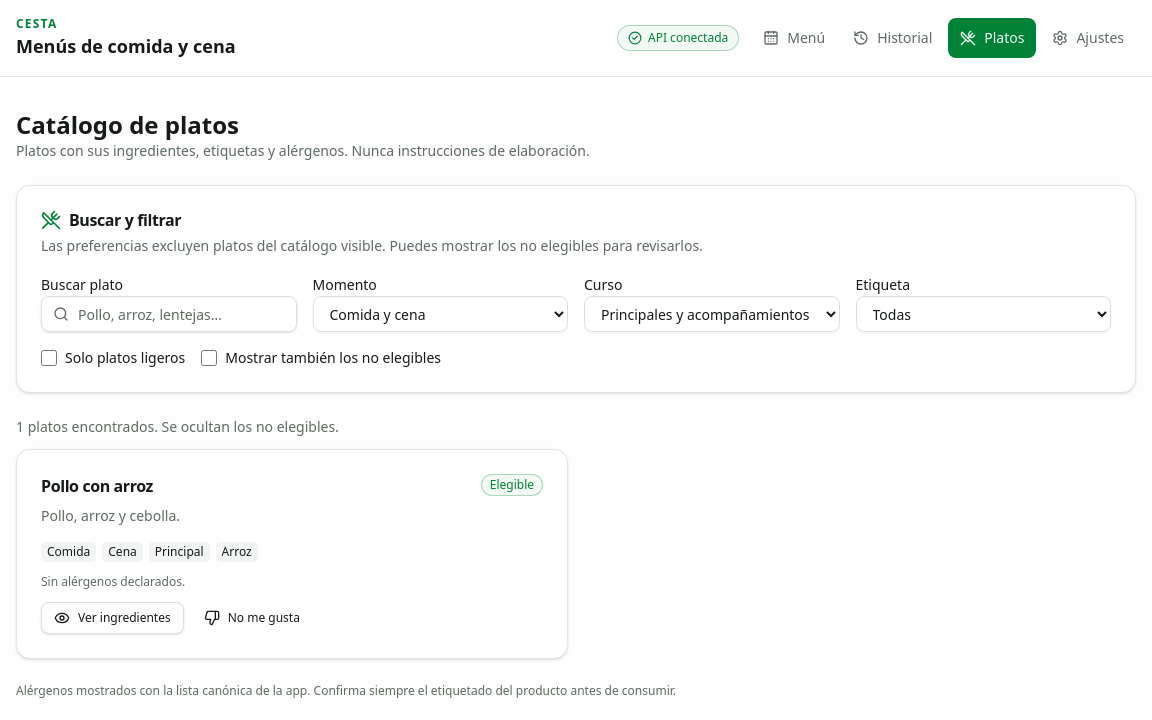
Test: DishesPage › muestra el catálogo y abre la composición del plato
Check: the heading "Catálogo de platos" is shown, box [16, 108, 239, 141]
Check: the text "Pollo con arroz" is shown, box [41, 474, 153, 498]
Click the button "Ver ingredientes".
click(112, 618)  # box [41, 602, 184, 634]
(page scrolled)
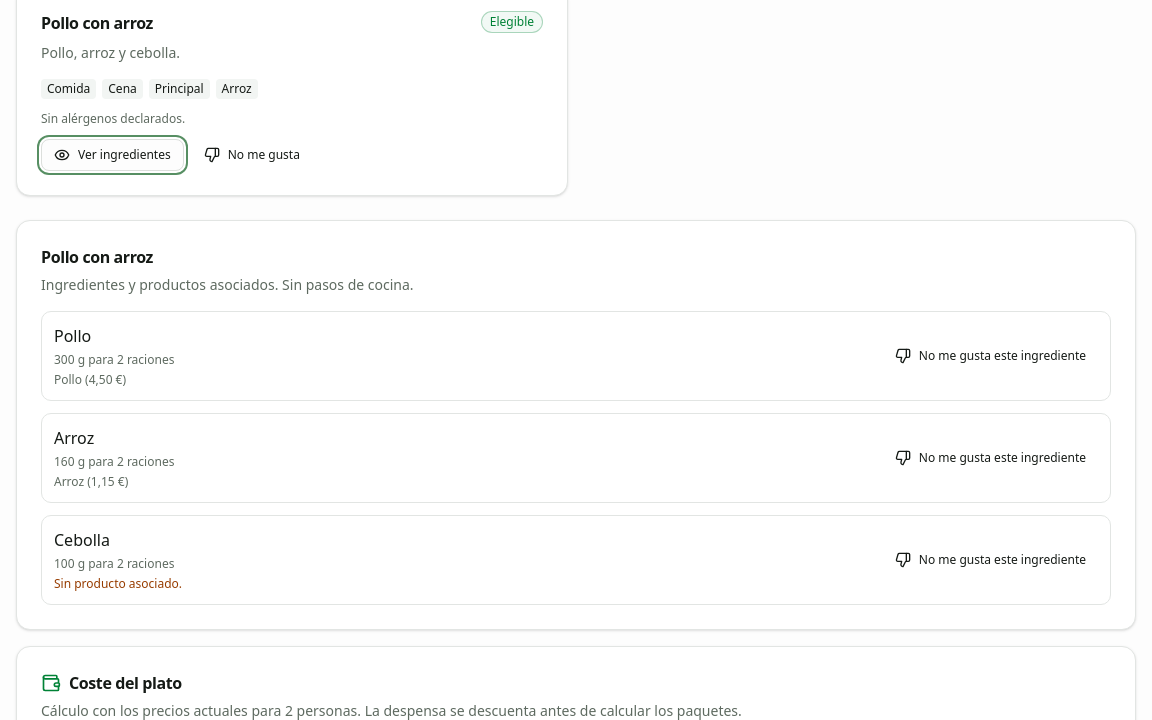
Check: the text "Pollo" is shown, box [54, 325, 91, 347]
Check: the text "300 g para 2 raciones" is shown, box [54, 352, 174, 368]
